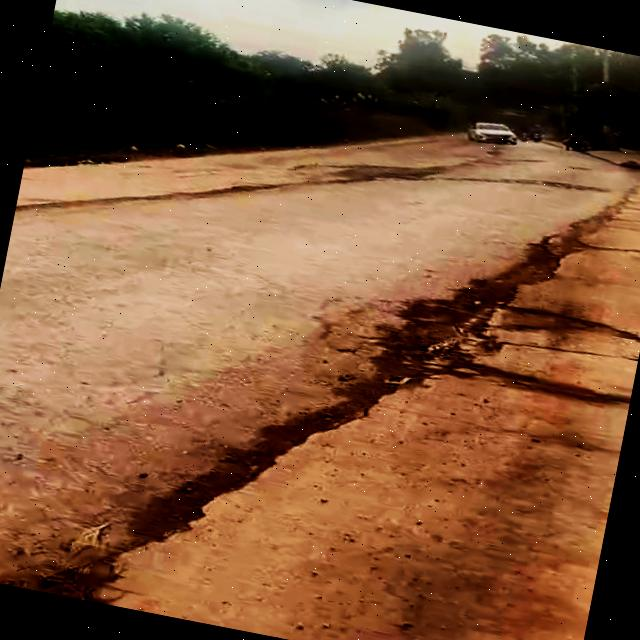pothole: (378, 264, 640, 421)
